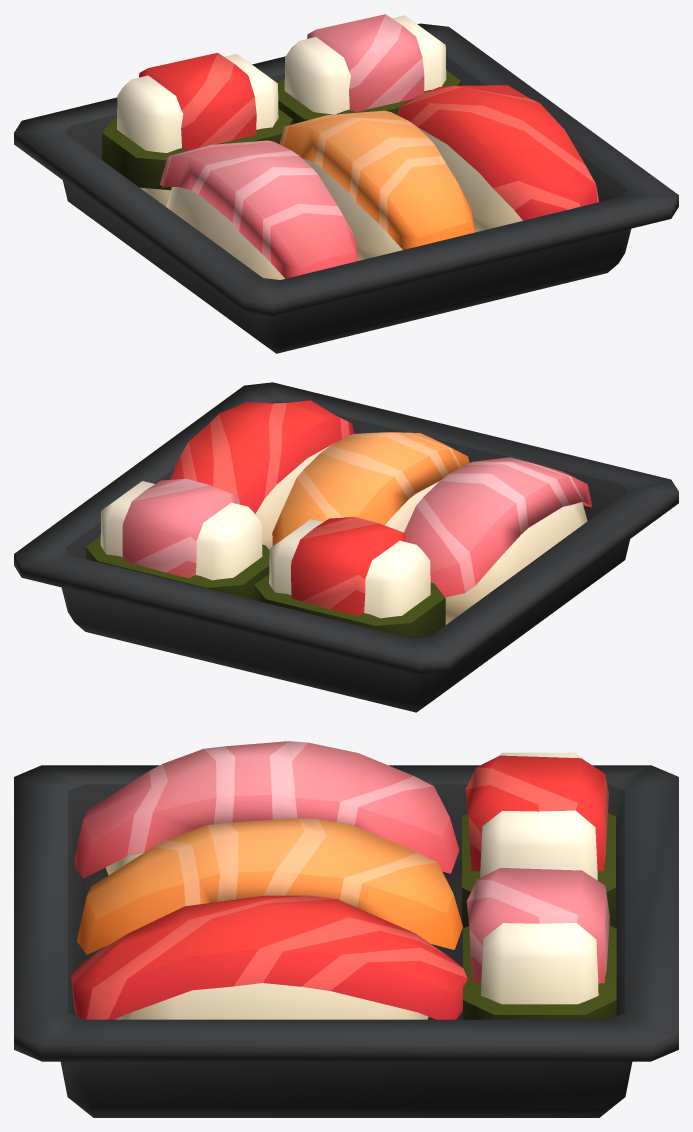
File: Set_1_022.gltf
3 views of the same model, one above another, from view 1: azimuth 30°, elevation 25°; view 2: azimuth 150°, elevation 25°; view 3: azimuth 270°, elevation 25° (orthographic). The views are drawn at different scales.
Visible parts, largest first — view 1: Box_Plastic_Black_Small_002.001, Nigiri_Tuna_Fat_001.001, Nigiri_Tuna_001.001, Nigiri_Salmon_002.001, Sushi_Small_Narrow_Tuna_001.001, Sushi_Small_Narrow_Tuna_Fat_001.001; view 2: Box_Plastic_Black_Small_002.001, Nigiri_Tuna_Fat_001.001, Sushi_Small_Narrow_Tuna_001.001, Sushi_Small_Narrow_Tuna_Fat_001.001, Nigiri_Tuna_001.001, Nigiri_Salmon_002.001; view 3: Box_Plastic_Black_Small_002.001, Nigiri_Tuna_001.001, Nigiri_Salmon_002.001, Nigiri_Tuna_Fat_001.001, Sushi_Small_Narrow_Tuna_Fat_001.001, Sushi_Small_Narrow_Tuna_001.001.
Part boxes in pixels (box(x1,y1,x2,y2)): Box_Plastic_Black_Small_002.001: box(14, 23, 678, 353); Nigiri_Tuna_Fat_001.001: box(160, 140, 358, 279); Nigiri_Tuna_001.001: box(397, 85, 598, 232); Nigiri_Salmon_002.001: box(279, 110, 474, 260); Sushi_Small_Narrow_Tuna_001.001: box(102, 52, 293, 206); Sushi_Small_Narrow_Tuna_Fat_001.001: box(278, 14, 460, 123); Box_Plastic_Black_Small_002.001: box(14, 382, 678, 712); Nigiri_Tuna_Fat_001.001: box(404, 457, 592, 624); Sushi_Small_Narrow_Tuna_001.001: box(254, 516, 445, 638); Sushi_Small_Narrow_Tuna_Fat_001.001: box(86, 478, 269, 599); Nigiri_Tuna_001.001: box(170, 400, 354, 549); Nigiri_Salmon_002.001: box(272, 432, 469, 545); Box_Plastic_Black_Small_002.001: box(14, 765, 678, 1117); Nigiri_Tuna_001.001: box(70, 895, 467, 1019); Nigiri_Salmon_002.001: box(77, 818, 462, 954); Nigiri_Tuna_Fat_001.001: box(74, 741, 459, 878); Sushi_Small_Narrow_Tuna_Fat_001.001: box(463, 865, 616, 1019); Sushi_Small_Narrow_Tuna_001.001: box(462, 752, 615, 927).
Size of the model in its own units: 2 by 0.6177 by 2.
Materials: 1 (1 with a texture image).
